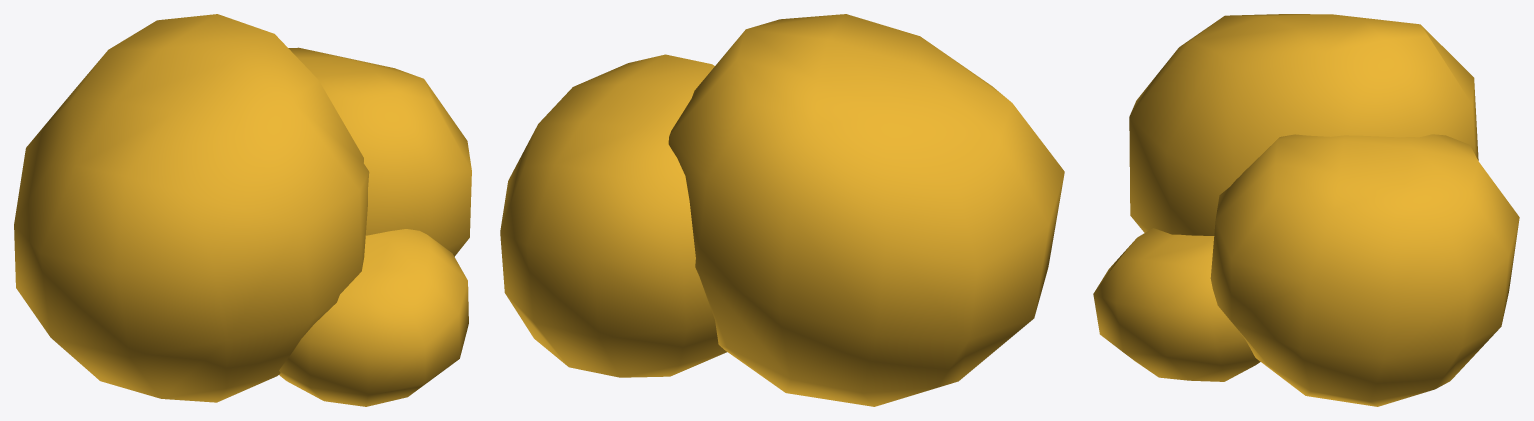
Rendered from Shrub_Top_A_03_LOD2.gltf.
3 views of the same model, side by side, from view 1: azimuth 30°, elevation 25°; view 2: azimuth 150°, elevation 25°; view 3: azimuth 270°, elevation 25° (orthographic). The views are drawn at different scales.
Parts seen in each view (by area): view 1: Shrub_Top_A_03_LOD2_Cylinder.727; view 2: Shrub_Top_A_03_LOD2_Cylinder.727; view 3: Shrub_Top_A_03_LOD2_Cylinder.727.
Boxes of the visible parts, <box> form: Shrub_Top_A_03_LOD2_Cylinder.727: <box>14,14,471,406</box>; Shrub_Top_A_03_LOD2_Cylinder.727: <box>500,14,1064,406</box>; Shrub_Top_A_03_LOD2_Cylinder.727: <box>1093,14,1519,406</box>.
Size of the model in its own units: 7.38 by 5.11 by 6.36.
Materials: 1 (1 with a texture image).
